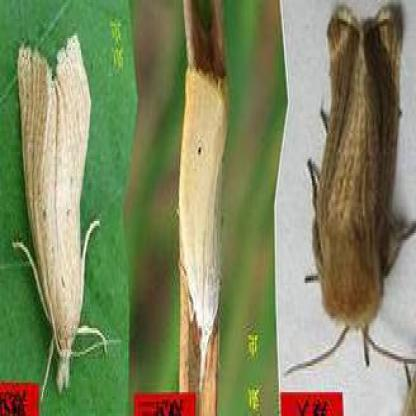stem-borer: (281, 5, 416, 382), (8, 26, 122, 398), (176, 69, 231, 388)
